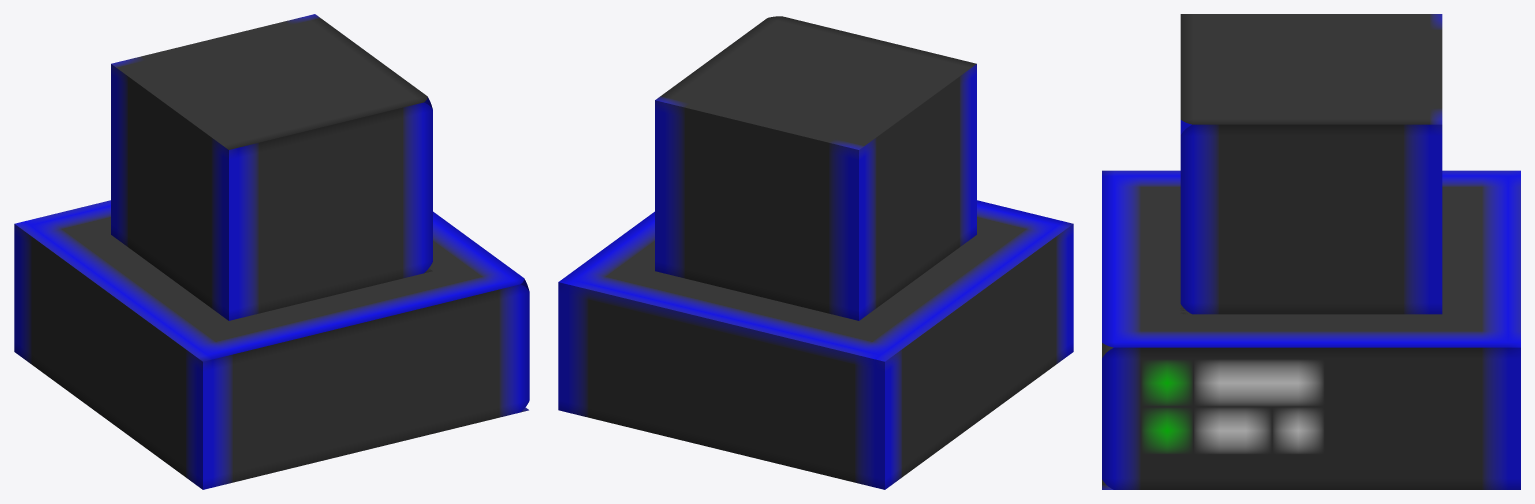
The model's file is emp_tower_static.obj.
3 renders of one model, left to right at view 1: azimuth 30°, elevation 25°; view 2: azimuth 150°, elevation 25°; view 3: azimuth 270°, elevation 25°, orthographic. The views are drawn at different scales.
Parts seen in each view (by area): view 1: Base, Support; view 2: Base, Support; view 3: Base, Support.
Boxes of the visible parts, x1,y1,x2,y2 form: Base: [14, 200, 529, 489]; Support: [111, 14, 432, 320]; Base: [558, 200, 1073, 489]; Support: [655, 16, 976, 320]; Base: [1102, 170, 1520, 489]; Support: [1180, 14, 1442, 314].
Bounding box in the file's own units: 1 × 0.875 × 1.
